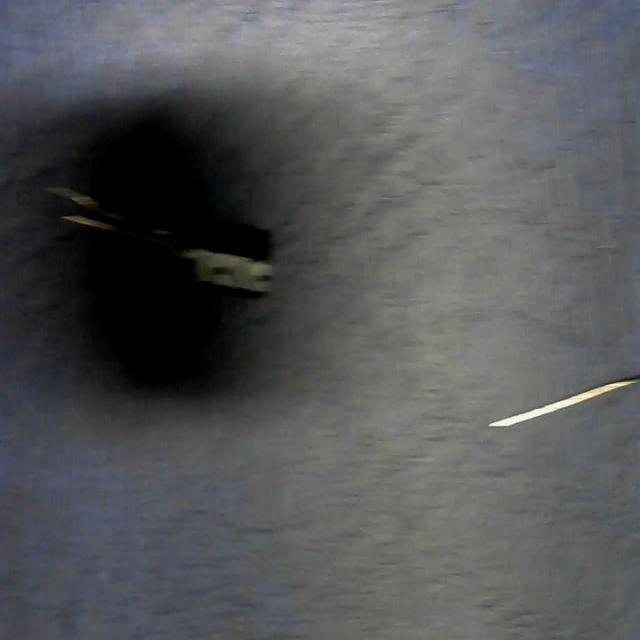capacitor: (42, 167, 275, 308)
